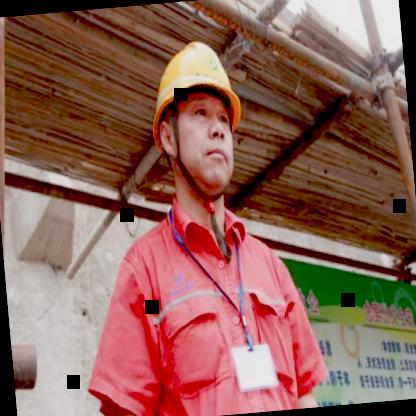helmet: (139, 22, 257, 212)
